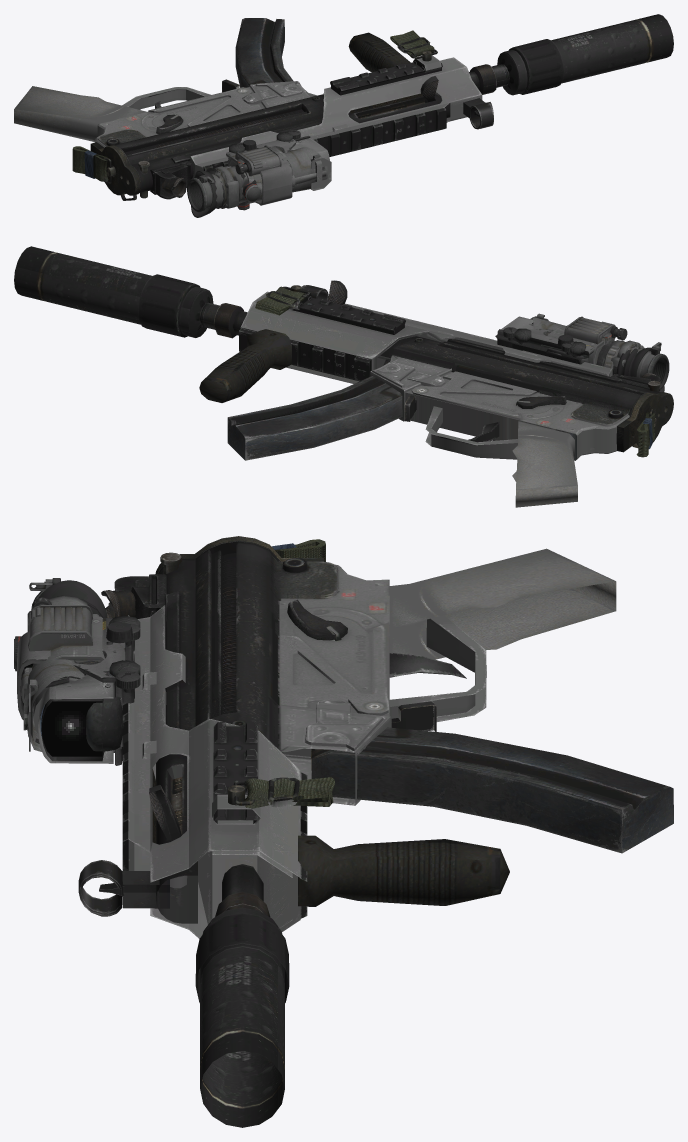
Rendered from viewmodel_mp5k_arctic_LOD0.obj.
3 views of the same model, one above another, from view 1: azimuth 30°, elevation 25°; view 2: azimuth 150°, elevation 25°; view 3: azimuth 270°, elevation 25° (orthographic). The views are drawn at different scales.
Parts seen in each view (by area): view 1: mtl_weapon_mp5k_arctic, mtl_weapon_suppressor_b, mtl_weapon_acog_2_arctic, mtl_weapon_thermal_sight_2_arctic, mtl_weapon_mp5k_iron_sight, mtl_weapon_eotech_2_arctic, mtl_weapon_m4_foregrip, mtl_weapon_red_dot_sight_arctic; view 2: mtl_weapon_mp5k_arctic, mtl_weapon_suppressor_b, mtl_weapon_m4_foregrip, mtl_weapon_thermal_sight_2_arctic, mtl_weapon_acog_2_arctic, mtl_weapon_red_dot_sight_arctic, mtl_weapon_eotech_2_arctic, mtl_weapon_mp5k_iron_sight; view 3: mtl_weapon_mp5k_arctic, mtl_weapon_suppressor_b, mtl_weapon_m4_foregrip, mtl_weapon_thermal_sight_2_arctic, mtl_weapon_mp5k_iron_sight, mtl_weapon_eotech_2_arctic, mtl_weapon_red_dot_sight_arctic, mtl_weapon_acog_2_arctic, mtl_weapon_red_cross_small.
Part boxes in pixels (<box>): mtl_weapon_mp5k_arctic: <box>14,18,509,200</box>; mtl_weapon_suppressor_b: <box>497,14,673,95</box>; mtl_weapon_acog_2_arctic: <box>187,132,328,212</box>; mtl_weapon_thermal_sight_2_arctic: <box>191,140,331,217</box>; mtl_weapon_mp5k_iron_sight: <box>150,98,493,199</box>; mtl_weapon_eotech_2_arctic: <box>226,139,296,205</box>; mtl_weapon_m4_foregrip: <box>348,32,410,72</box>; mtl_weapon_red_dot_sight_arctic: <box>237,130,329,160</box>; mtl_weapon_mp5k_arctic: <box>199,280,673,507</box>; mtl_weapon_suppressor_b: <box>14,246,213,337</box>; mtl_weapon_m4_foregrip: <box>199,329,291,402</box>; mtl_weapon_thermal_sight_2_arctic: <box>529,316,664,391</box>; mtl_weapon_acog_2_arctic: <box>514,313,669,390</box>; mtl_weapon_red_dot_sight_arctic: <box>495,316,589,364</box>; mtl_weapon_eotech_2_arctic: <box>512,325,594,363</box>; mtl_weapon_mp5k_iron_sight: <box>301,285,660,391</box>; mtl_weapon_mp5k_arctic: <box>122,536,673,938</box>; mtl_weapon_suppressor_b: <box>195,907,289,1127</box>; mtl_weapon_m4_foregrip: <box>298,835,509,906</box>; mtl_weapon_thermal_sight_2_arctic: <box>21,580,133,751</box>; mtl_weapon_mp5k_iron_sight: <box>78,574,169,916</box>; mtl_weapon_eotech_2_arctic: <box>17,618,134,752</box>; mtl_weapon_red_dot_sight_arctic: <box>38,624,140,765</box>; mtl_weapon_acog_2_arctic: <box>14,578,140,751</box>; mtl_weapon_red_cross_small: <box>41,700,102,756</box>.
Size of the model in its own units: 60.95 by 7.48 by 32.16.
